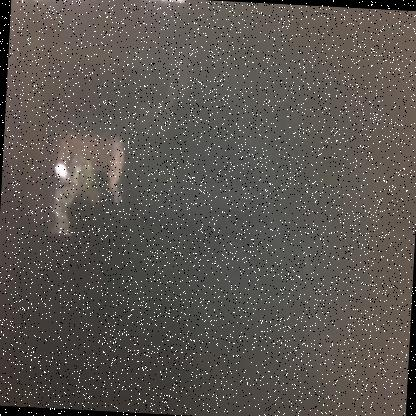Nocrack: (9, 3, 415, 403)
